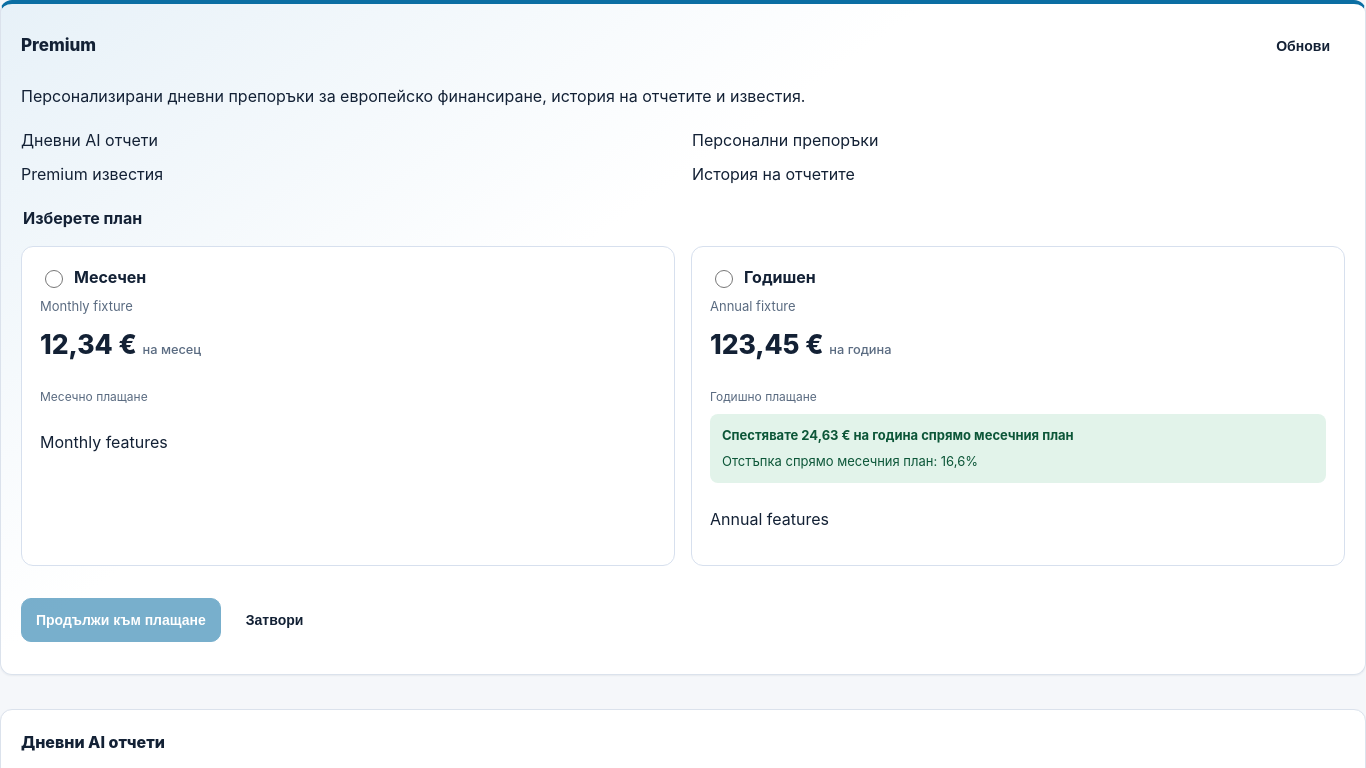
Test: checkout submits only selected plan and displays safe server error
Expected: the text "Monthly fixture" is shown, [40, 298, 133, 314]
Click the 1st radio button.
click(54, 278)  # box [45, 270, 63, 288]
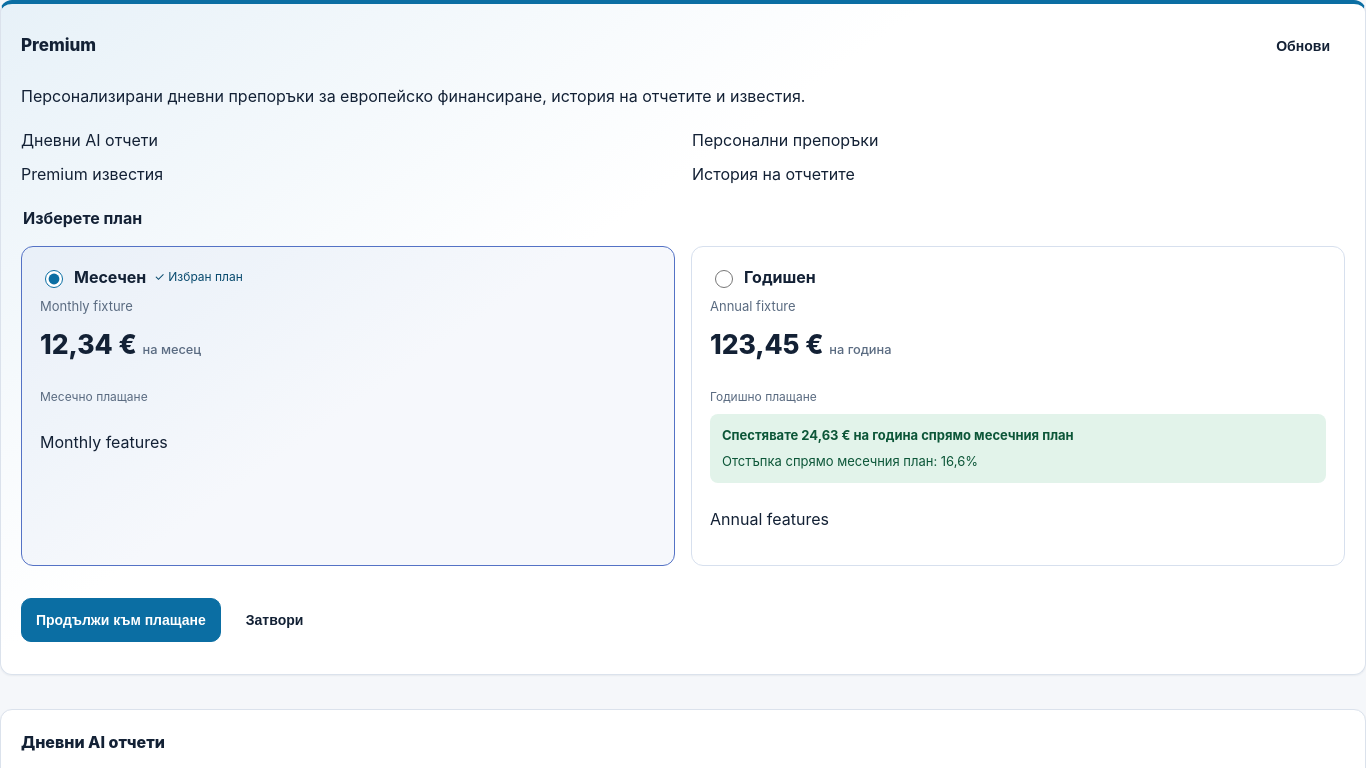
Click the button "Продължи към плащане".
click(121, 620)  # box [21, 598, 221, 642]
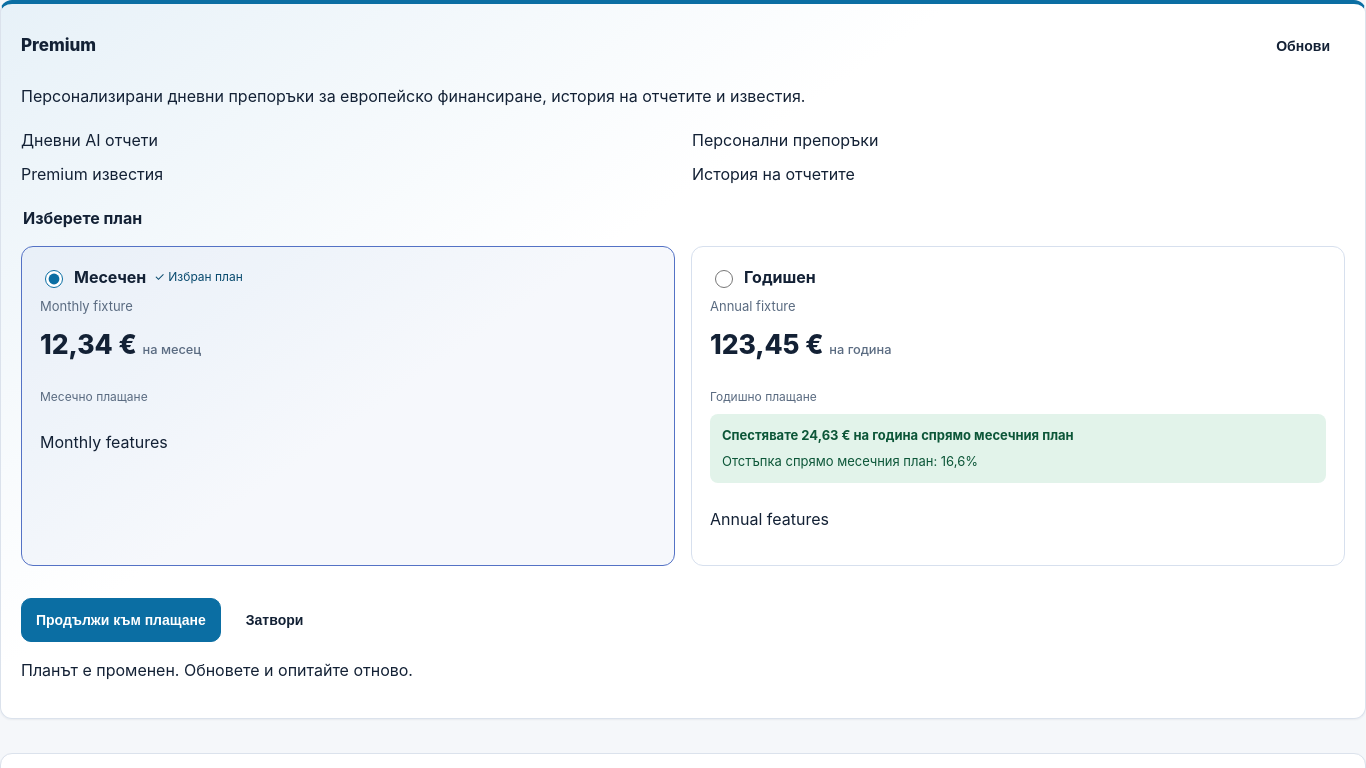
Now the message "Планът е променен. Обновете и опитайте отново." is shown, box [21, 660, 413, 680]
